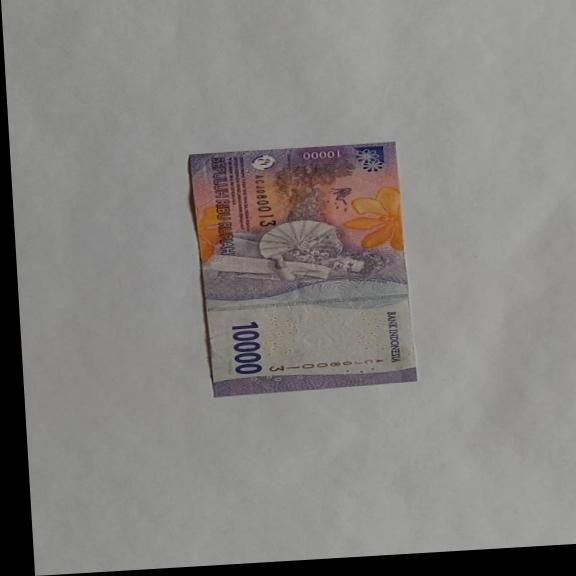Kertas: (187, 140, 418, 398), (228, 321, 264, 376)
